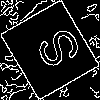S: (25, 24, 84, 77)
